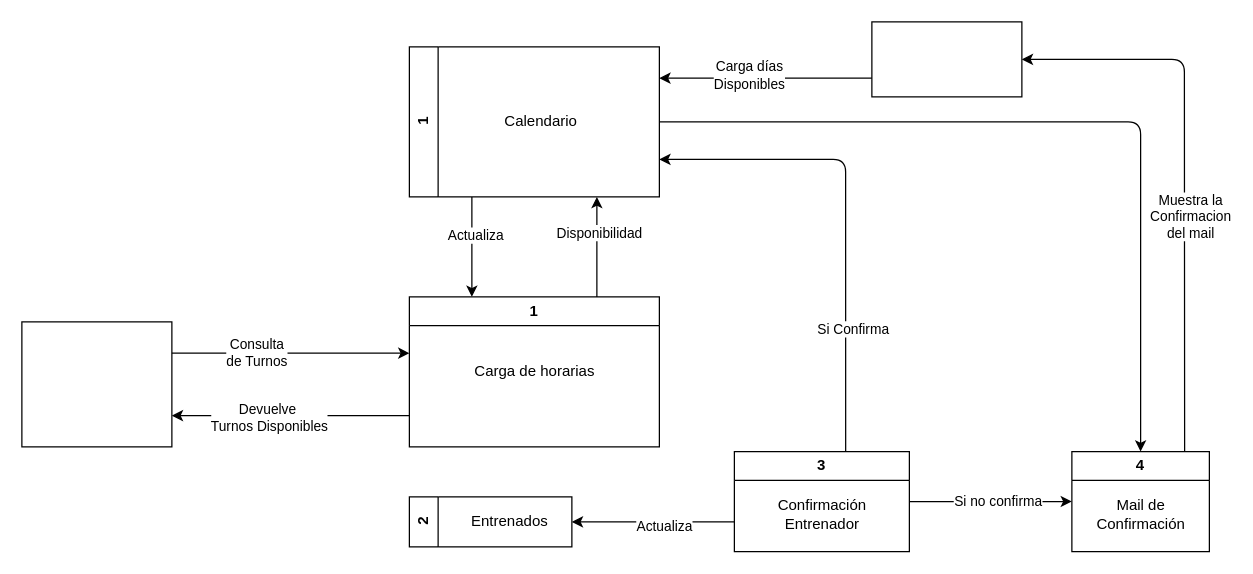
Image size: 1253x574. Some labels were removed from this diagram. The centre of each missing label's shape, as x and y in pixels:
Cliente: point 96,384
Entrenador: point 946,59
